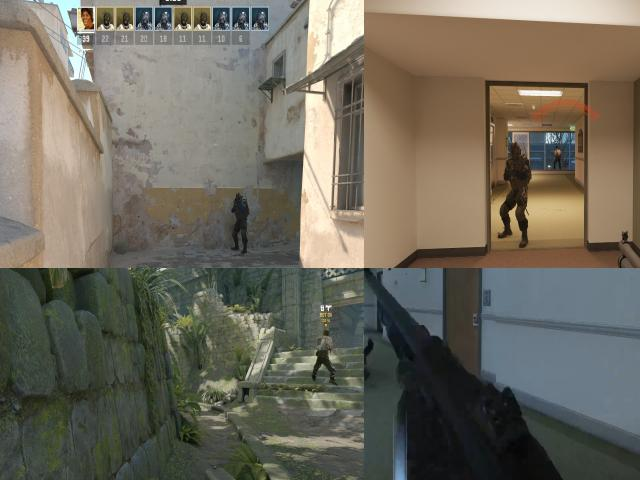CT: (501, 143, 532, 238), (234, 192, 248, 242)
CT-Head: (508, 143, 523, 162), (236, 193, 242, 204)
Dead: (364, 334, 375, 377)
T: (310, 322, 336, 389), (552, 145, 561, 170)
T-Head: (322, 328, 331, 337), (556, 146, 558, 151)
